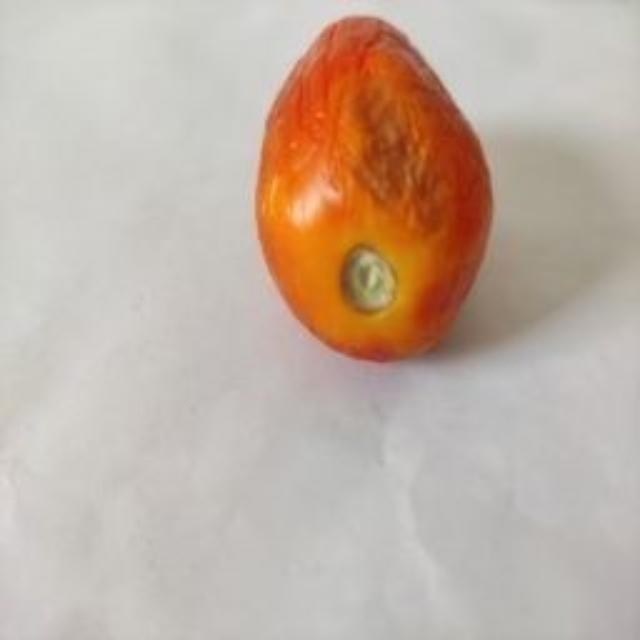defect: (253, 11, 497, 369)
